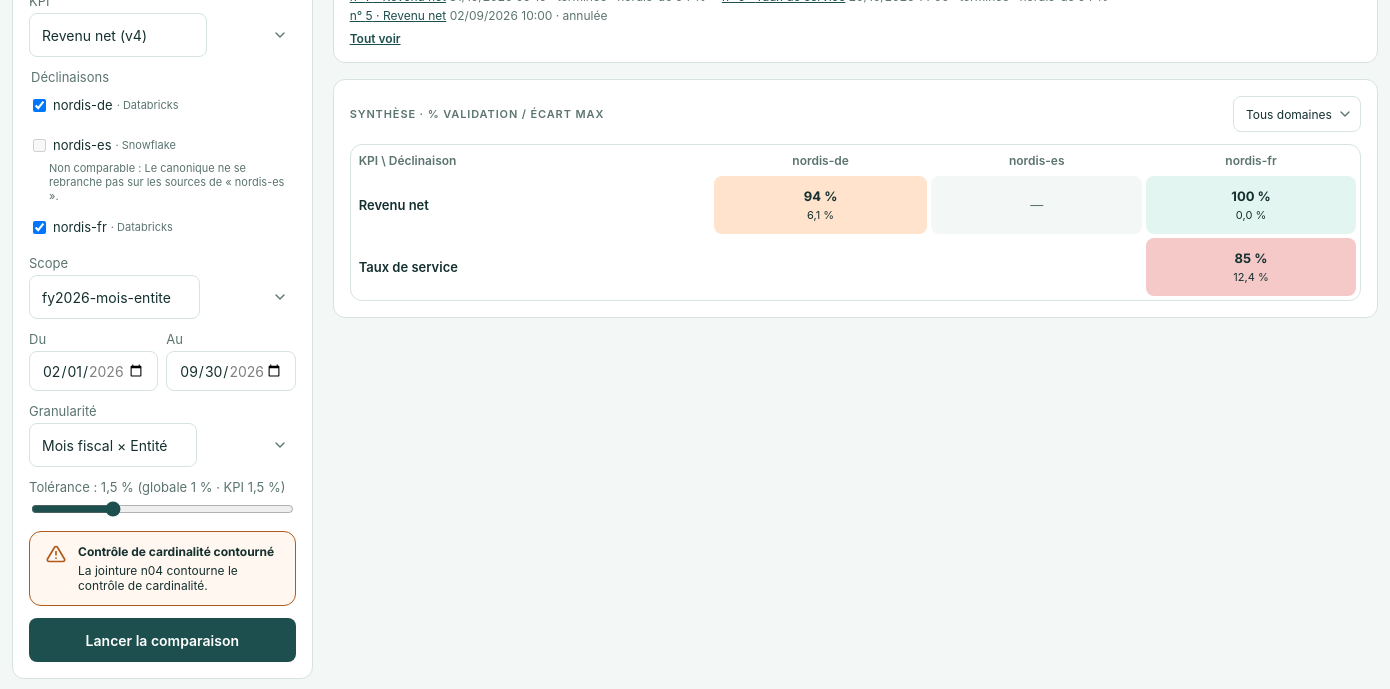
Test: comparaison › [S-0015-05] progression par plateforme, Annuler, statut annulée (critère 5)
Expected: the text "Contrôle de cardinalité contourné" is shown, [78,544,279,559]
Click the button "Lancer la comparaison".
click(162, 640)  # box [29,618,296,662]
(page scrolled)
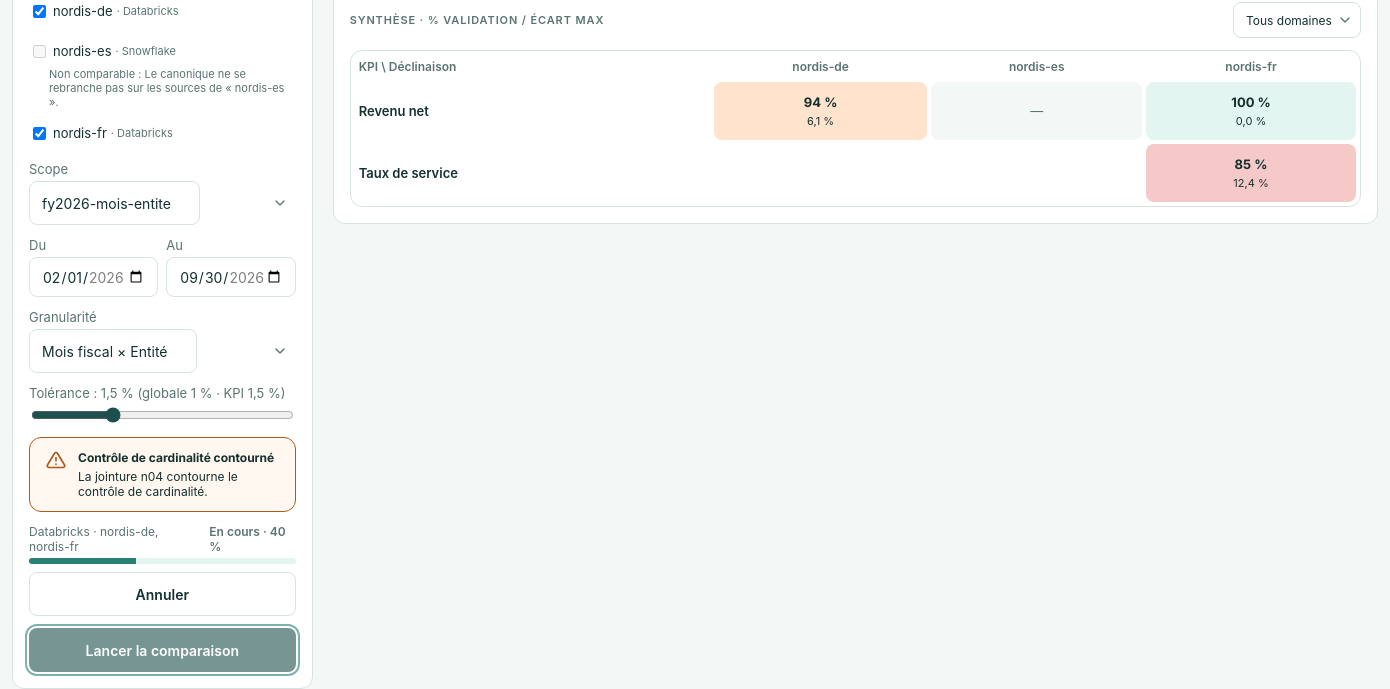
Result: the text "En cours · 40 %" is shown at [209,524,296,554]
Click the button "Annuler".
click(162, 594)  # box [29,572,296,616]
(page scrolled)
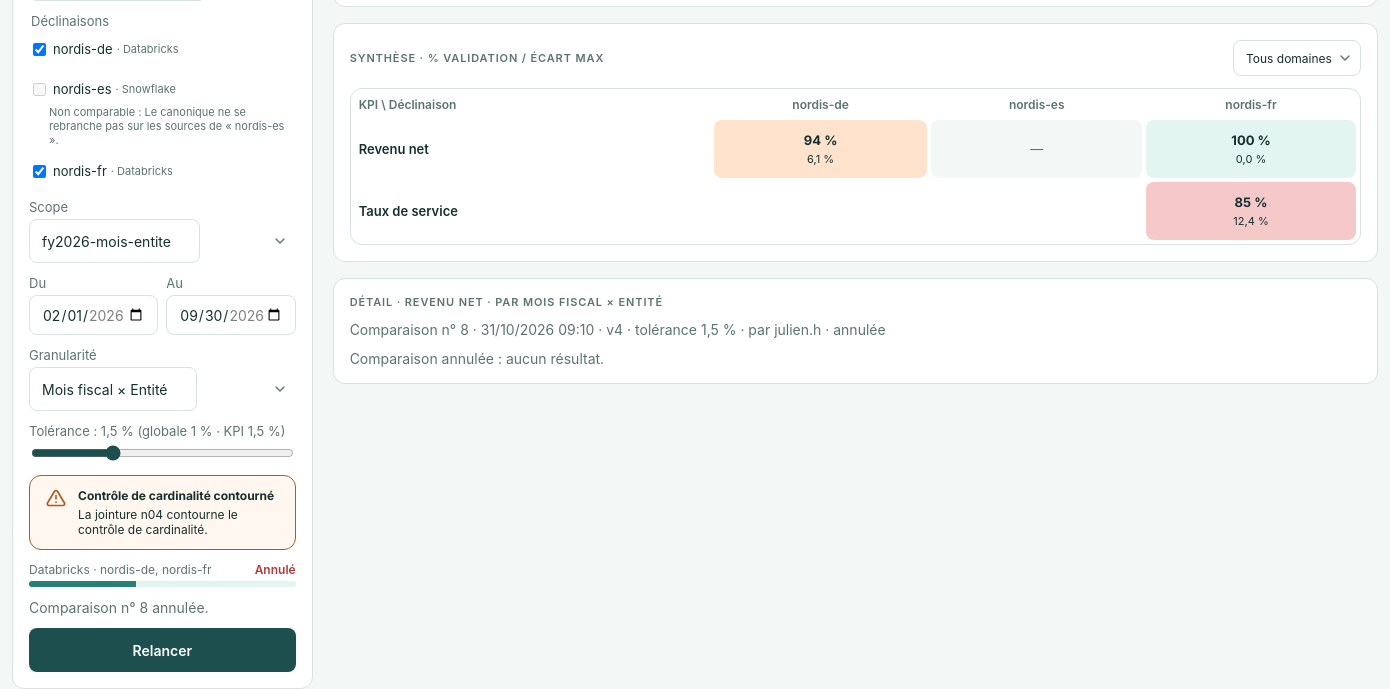
Result: the text "Comparaison n° 8 annulée." is shown at [29,599,209,616]
Result: the button "Annuler" is gone
Result: the text "Annulé" is shown at [255,562,296,577]
